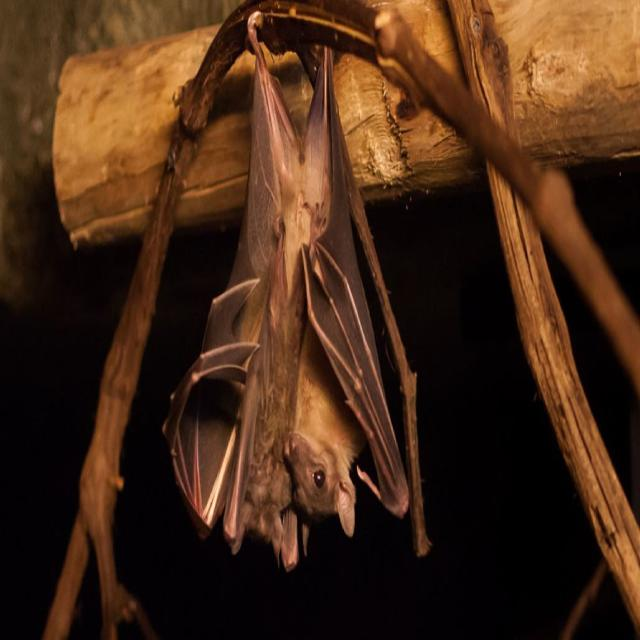Bat: (169, 19, 408, 552)
